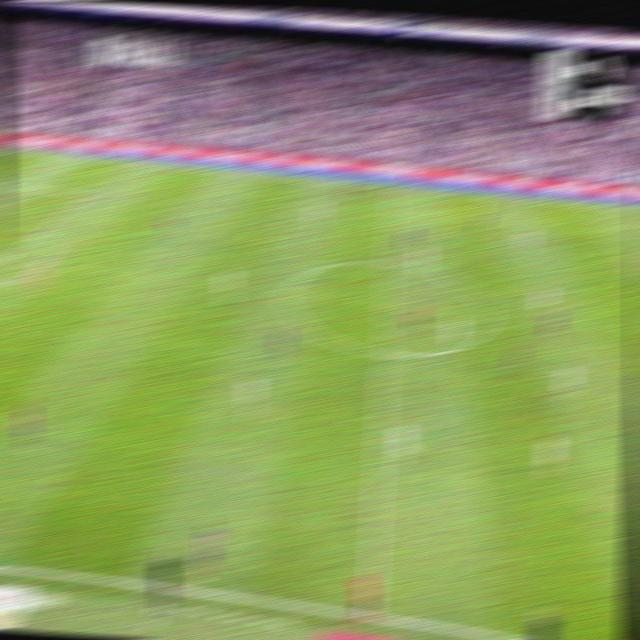bigarea_top_inner: (81, 187, 96, 199)
corner: (3, 144, 19, 153)
halfcircle_bottom: (374, 340, 395, 364)
halfcircle_top: (379, 250, 400, 272)
midline_bottom_intersection: (358, 601, 383, 623)
midline_top_intersection: (386, 181, 401, 194)
top_arc_area_intersection: (32, 224, 48, 237)
